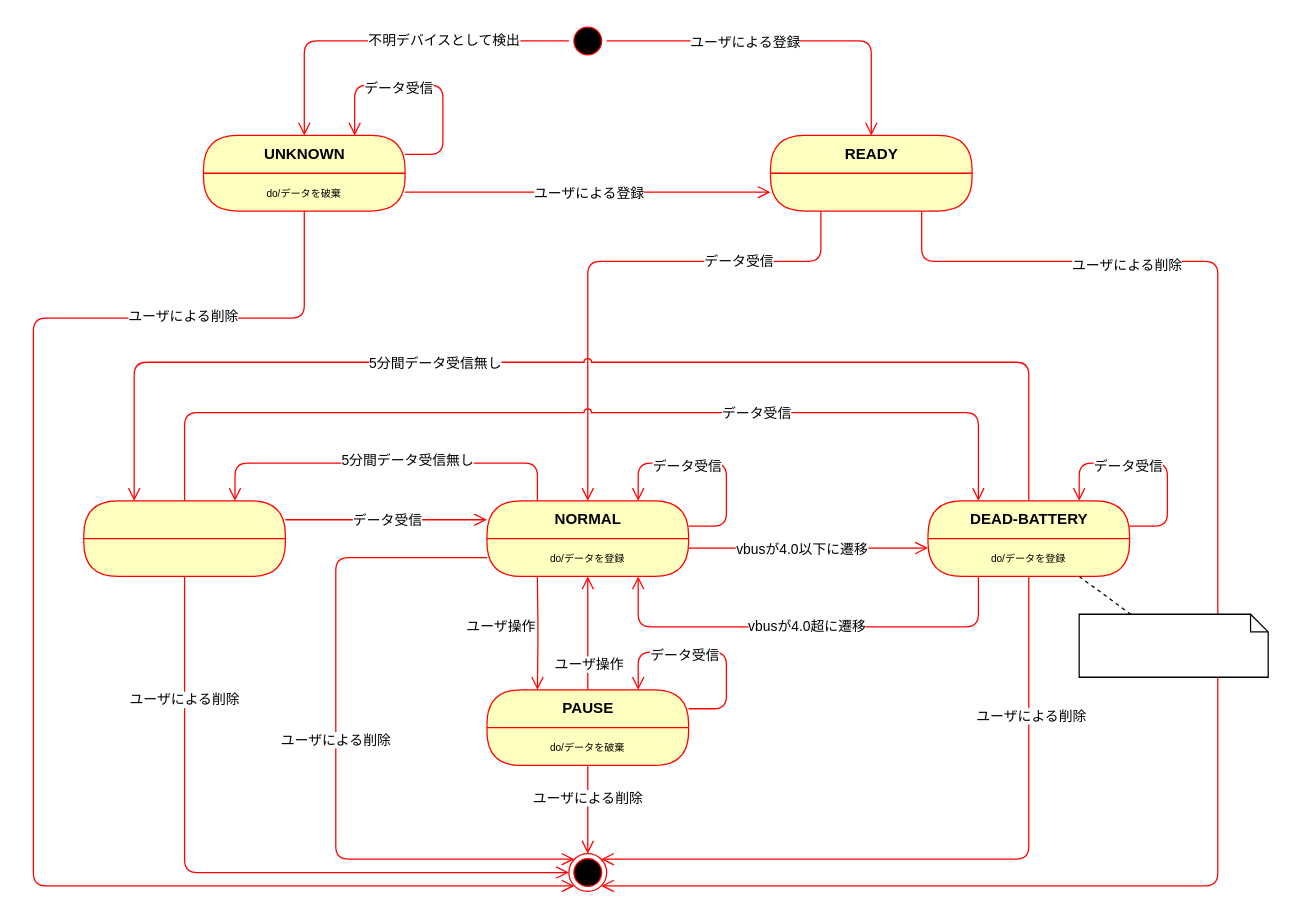
Image size: 1290x921. Some labels were removed from this diagram. Here are the shapes that lost their labels. From the top down, the centre of each, then its label:
the point at 184,538: STALL
the point at 1173,645: パワーソースがバッテリーの場合のみ
